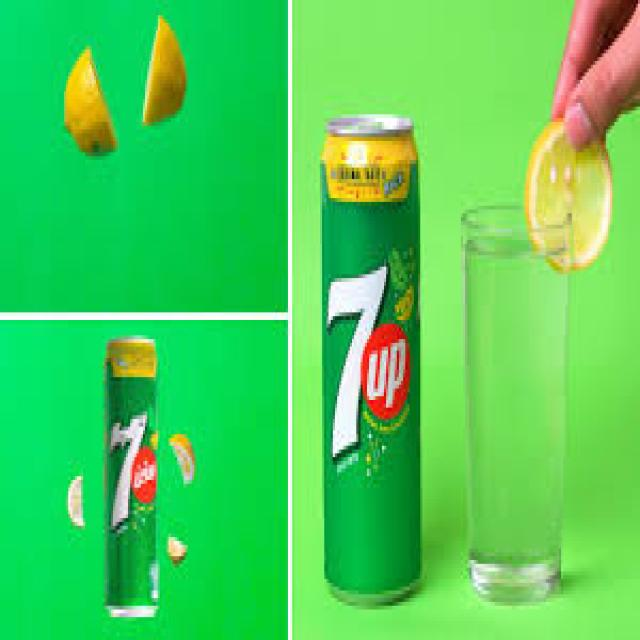Cans: (312, 99, 433, 610), (98, 328, 169, 636)
